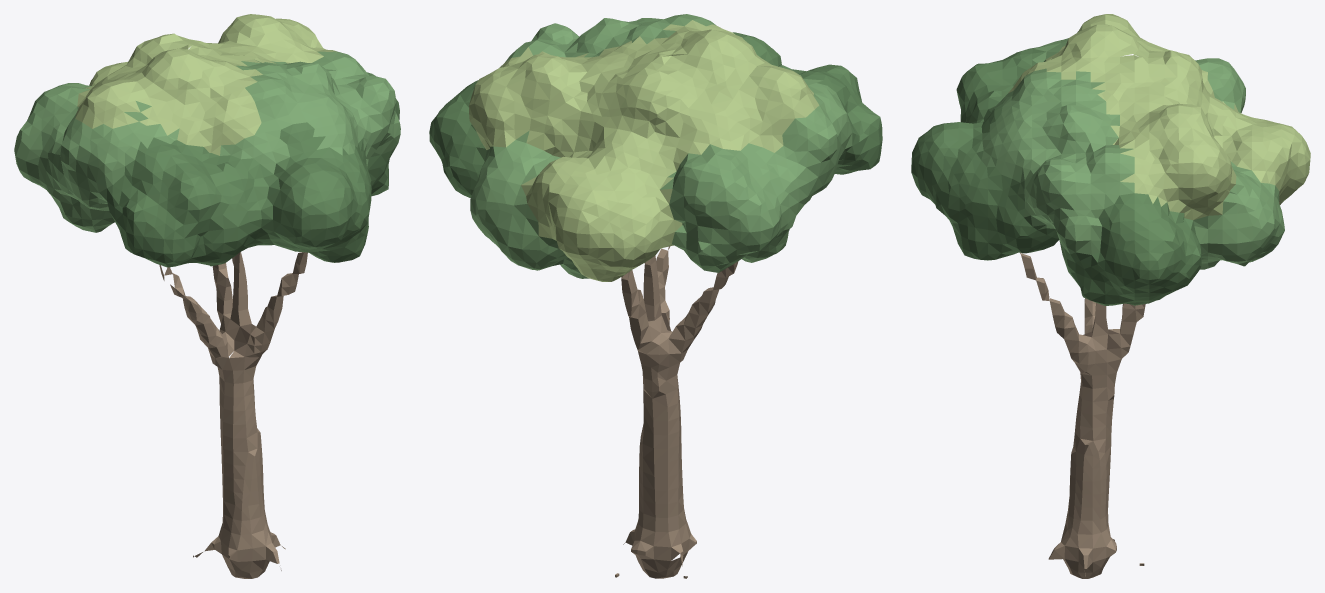
Rendered from prop_tree_medium.glb.
The picture shows the model from 3 angles, left to right: view 1: azimuth 30°, elevation 25°; view 2: azimuth 150°, elevation 25°; view 3: azimuth 270°, elevation 25°; orthographic projection. The views are drawn at different scales.
Visible parts, largest first — view 1: idle_00; view 2: idle_00; view 3: idle_00.
Boxes of the visible parts, bbox=[...] form: idle_00: bbox=[14, 14, 400, 578]; idle_00: bbox=[429, 14, 882, 578]; idle_00: bbox=[911, 14, 1310, 578].
Size of the model in its own units: 3.54 by 5.06 by 3.54.
